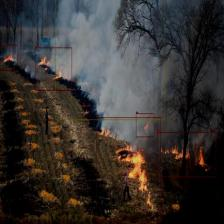fire: (96, 117, 160, 221), (157, 132, 216, 177), (36, 47, 72, 91), (136, 113, 154, 137), (3, 44, 18, 70), (82, 106, 92, 122)
smoke: (55, 0, 164, 120)
